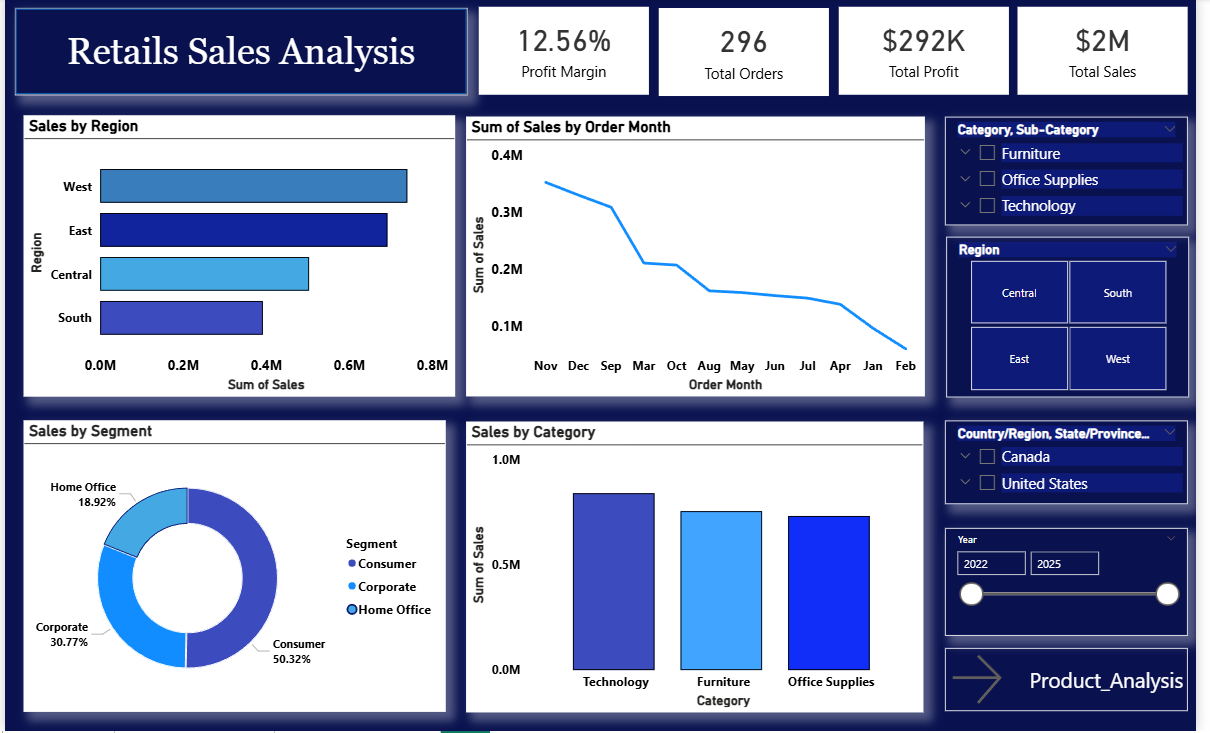

The page's visual inventory and layout, read from the dashboard file:
{"tool":"powerbi","page":{"name":"overview","canvas":[1300,800],"ordinal":0},"visuals":[{"type":"advanceCardE03760C5AB684758B56AA29F9E6C257B","fields":{"mainMeasure":["DateTable.Profit Margin"]},"box":[516.7,9,185.9,96.2],"z":0},{"type":"advanceCardE03760C5AB684758B56AA29F9E6C257B","fields":{"mainMeasure":["DateTable.Total Profit"]},"box":[909,9,185.9,96.2],"z":1000},{"type":"advanceCardE03760C5AB684758B56AA29F9E6C257B","fields":{"mainMeasure":["DateTable.Total Sales"]},"box":[1103.8,9,185.9,96.2],"z":2000},{"type":"advanceCardE03760C5AB684758B56AA29F9E6C257B","fields":{"mainMeasure":["DateTable.Total Orders"]},"box":[712.8,10.3,185.9,96.2],"z":3000},{"type":"slicer","fields":{"Values":["Orders.Region"]},"box":[1026.7,260,265,175],"z":4000},{"type":"slicer","fields":{"Values":["Orders.Category","Orders.Sub-Category"]},"box":[1025,130,265,118.3],"z":5000},{"type":"slicer","fields":{"Values":["Orders.Country/Region","Orders.State/Province","Orders.City"]},"box":[1025,461.2,265,91.2],"z":6000},{"type":"slicer","fields":{"Values":["DateTable.Year"]},"box":[1025,577.5,265,117.5],"z":7000},{"type":"shape","box":[10.3,10.3,493.6,94.9],"z":8000},{"type":"barChart","title":"Sales by Region","fields":{"Y":["Sum(Orders.Sales)"],"Category":["Orders.Region"]},"box":[20,128.3,470,306.7],"z":9000},{"type":"donutChart","title":"Sales by Segment","fields":{"Category":["Orders.Segment"],"Y":["Sum(Orders.Sales)"]},"box":[20,461.2,460,317.5],"z":10000},{"type":"lineChart","fields":{"Y":["Sum(Orders.Sales)"],"Category":["Orders.Order Month"]},"box":[503.3,130,500,305],"z":11000},{"type":"clusteredColumnChart","title":"Sales by Category","fields":{"Category":["Orders.Category"],"Y":["Sum(Orders.Sales)"]},"box":[503.3,461.7,498.3,316.7],"z":12000},{"type":"actionButton","box":[1025,708.8,265,68.8],"z":13000}]}

Visuals, with their boxes in screenshot pixels (x1, y1, x2, y2), scaled from the page's 1300x800 canvas onto the 1210x733 screenshot:
advanceCardE03760C5AB684758B56AA29F9E6C257B - DateTable.Profit Margin: [481,8,654,96]
advanceCardE03760C5AB684758B56AA29F9E6C257B - DateTable.Total Profit: [846,8,1019,96]
advanceCardE03760C5AB684758B56AA29F9E6C257B - DateTable.Total Sales: [1027,8,1200,96]
advanceCardE03760C5AB684758B56AA29F9E6C257B - DateTable.Total Orders: [663,9,836,98]
slicer - Orders.Region: [956,238,1202,399]
slicer - Orders.Category x Orders.Sub-Category: [954,119,1201,228]
slicer - Orders.Country/Region x Orders.State/Province: [954,423,1201,506]
slicer - DateTable.Year: [954,529,1201,637]
shape: [10,9,469,96]
"Sales by Region" barChart: [19,118,456,399]
"Sales by Segment" donutChart: [19,423,447,713]
lineChart - Sum(Orders.Sales) x Orders.Order Month: [468,119,934,399]
"Sales by Category" clusteredColumnChart: [468,423,932,713]
actionButton: [954,649,1201,712]
